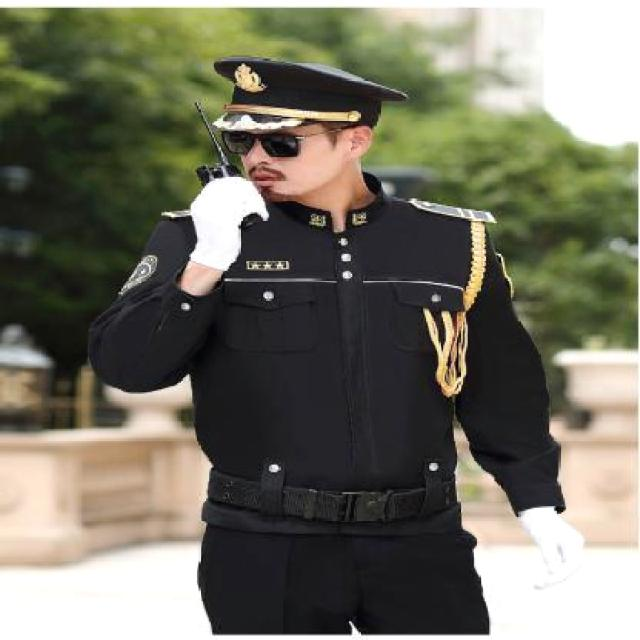face_nomask: (223, 120, 339, 194)
glasses: (219, 128, 307, 166)
hand_glove: (184, 176, 274, 262), (522, 516, 588, 592)
head_nohelmet: (180, 47, 398, 142)
person: (126, 40, 554, 640)
